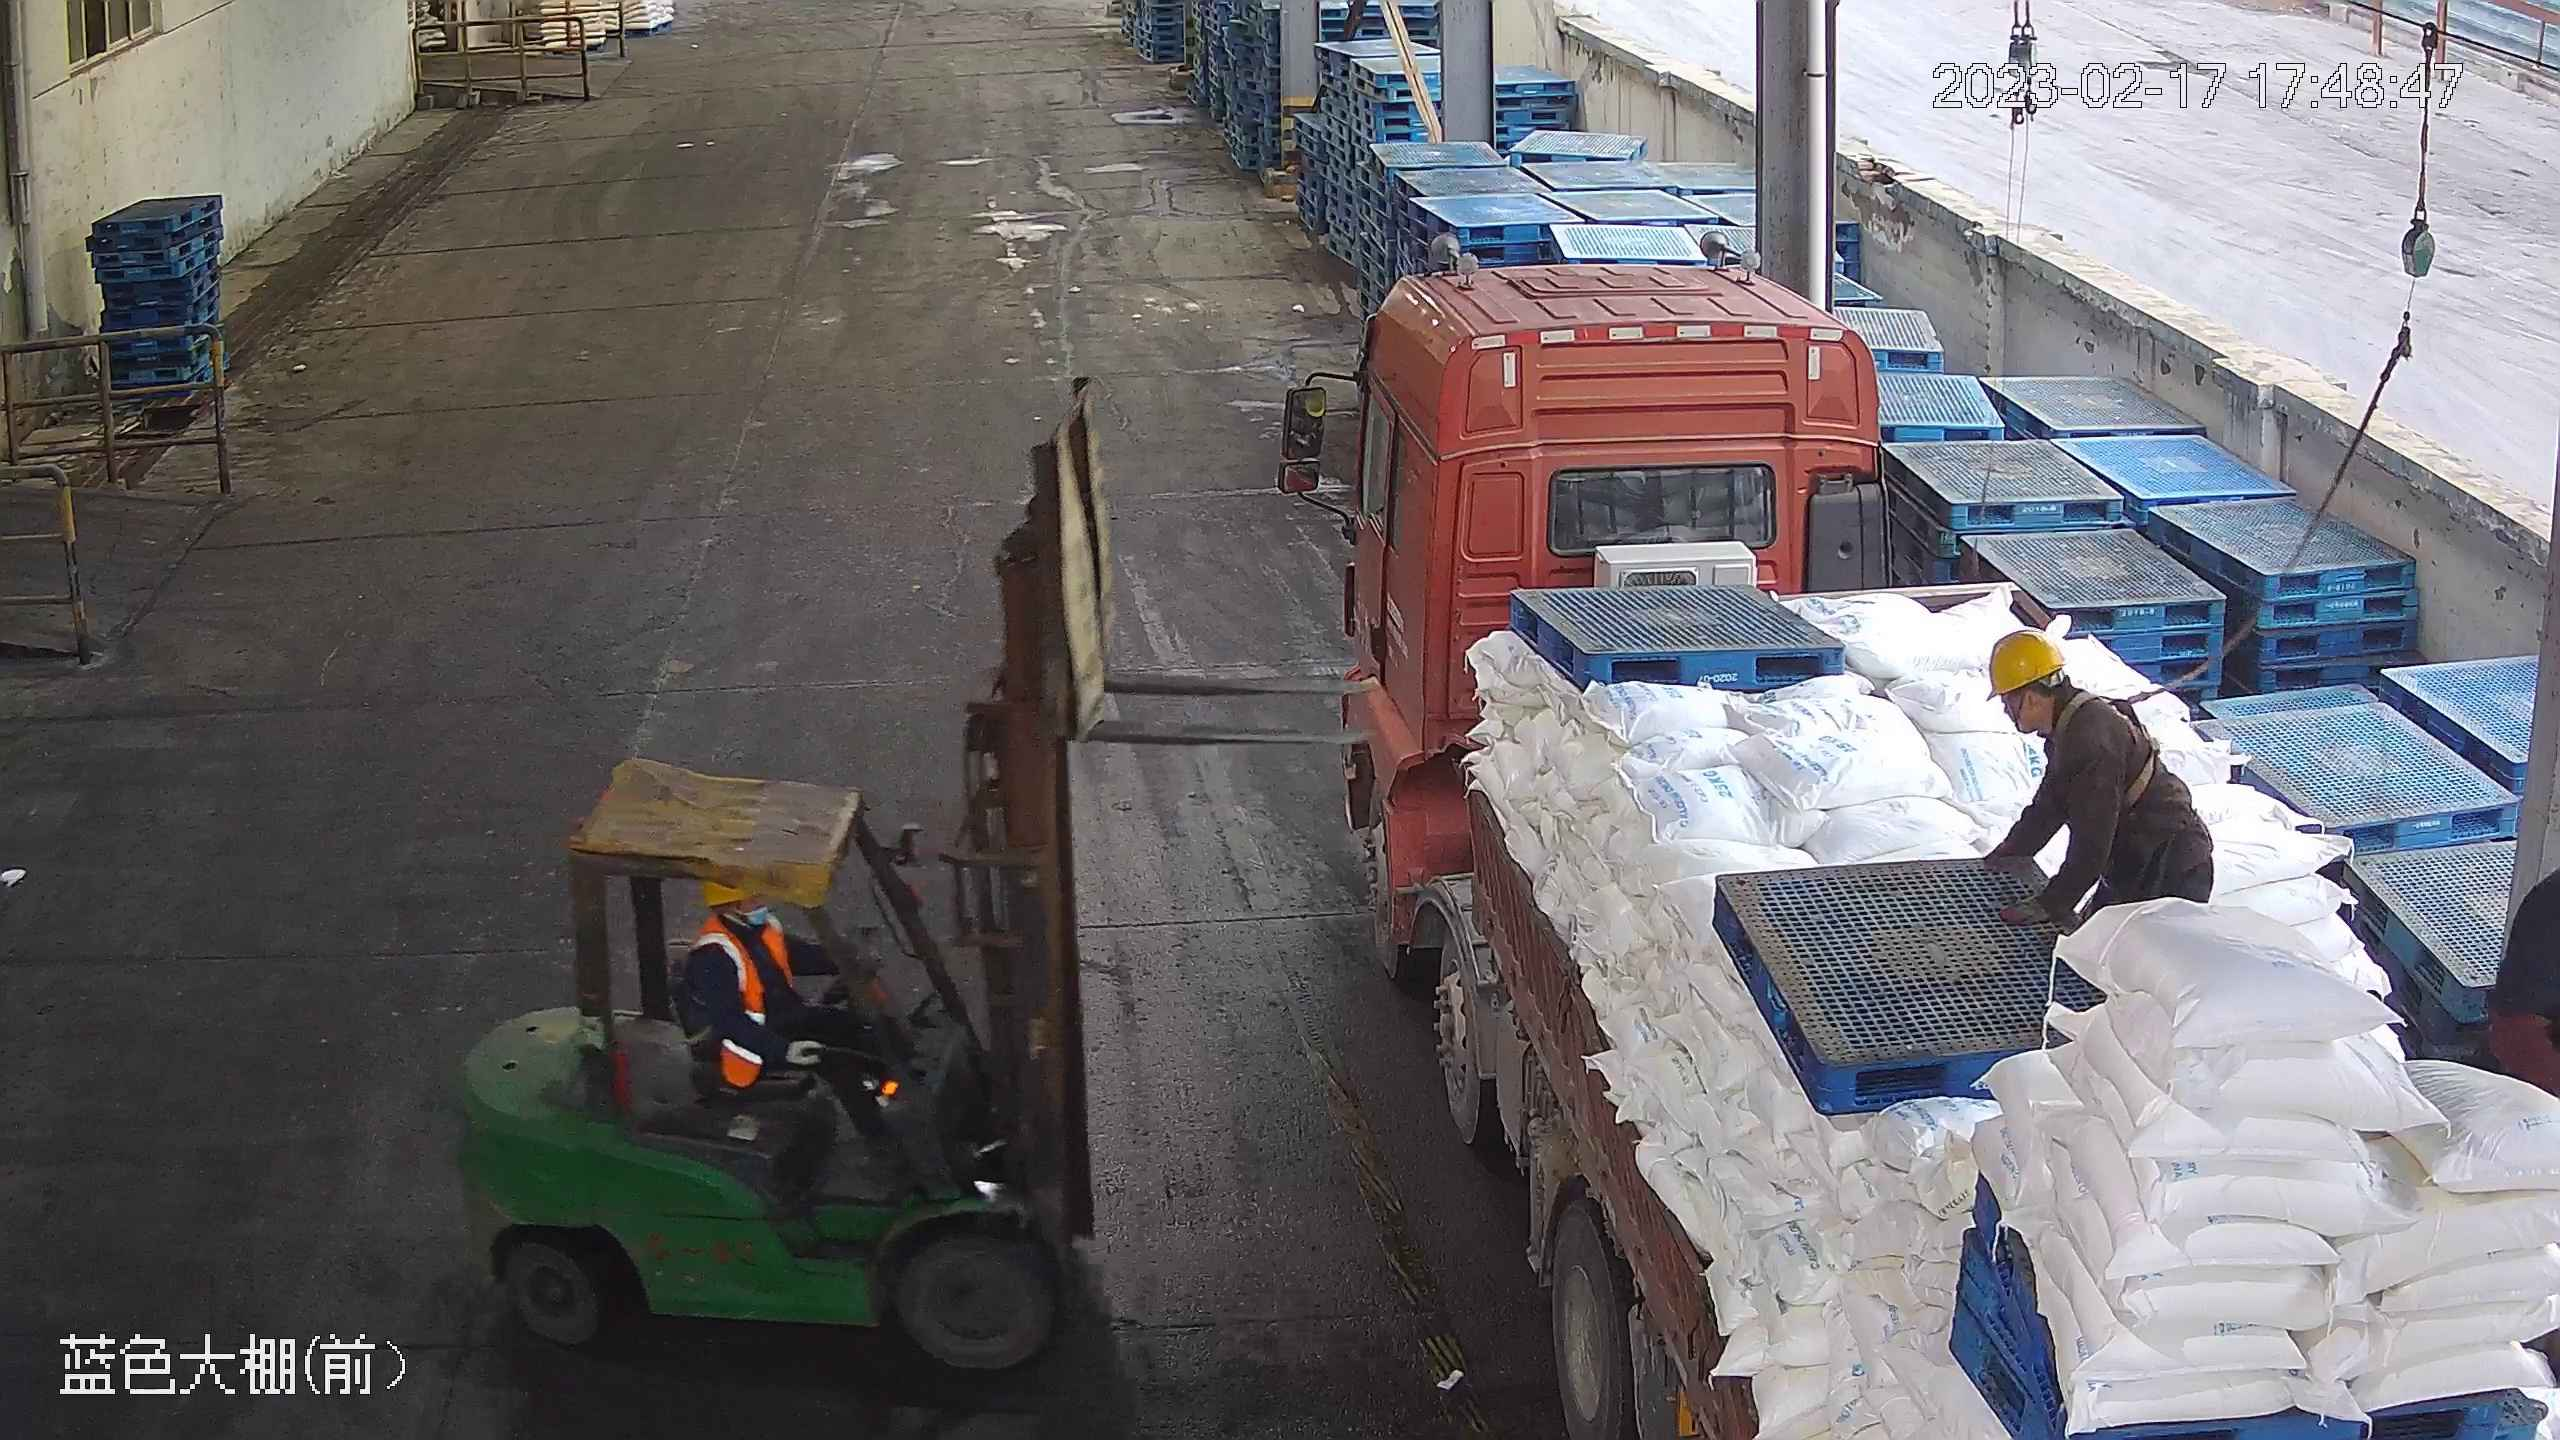belt: (2054, 686, 2165, 807)
head: (1985, 628, 2141, 760), (678, 882, 791, 982)
helmet: (1983, 628, 2067, 696)
people: (1974, 626, 2217, 1047), (676, 883, 907, 1175)
truck: (1262, 239, 2559, 1440)
